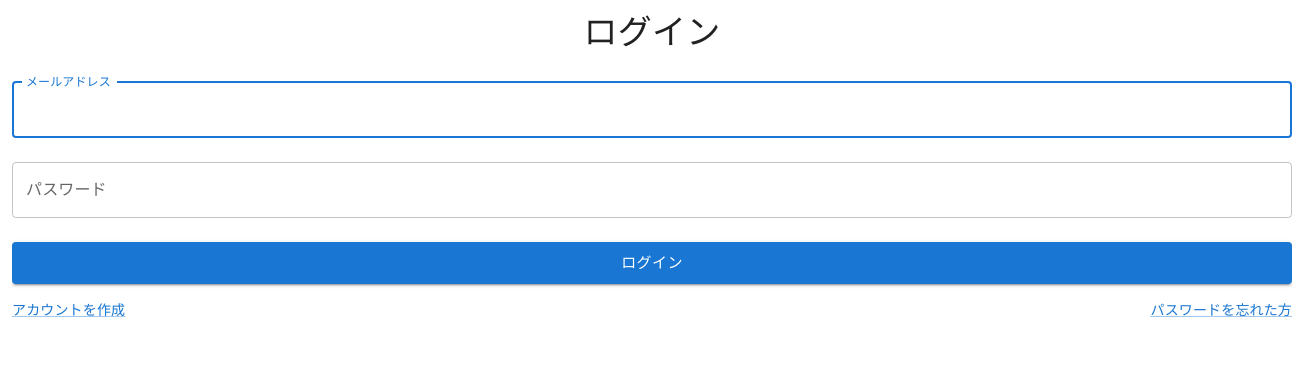
Test: LoginForm › メールアドレス未入力でバリデーションエラーを表示する
Step 1. Click the button "ログイン" → click(652, 263), box [12, 242, 1292, 284]
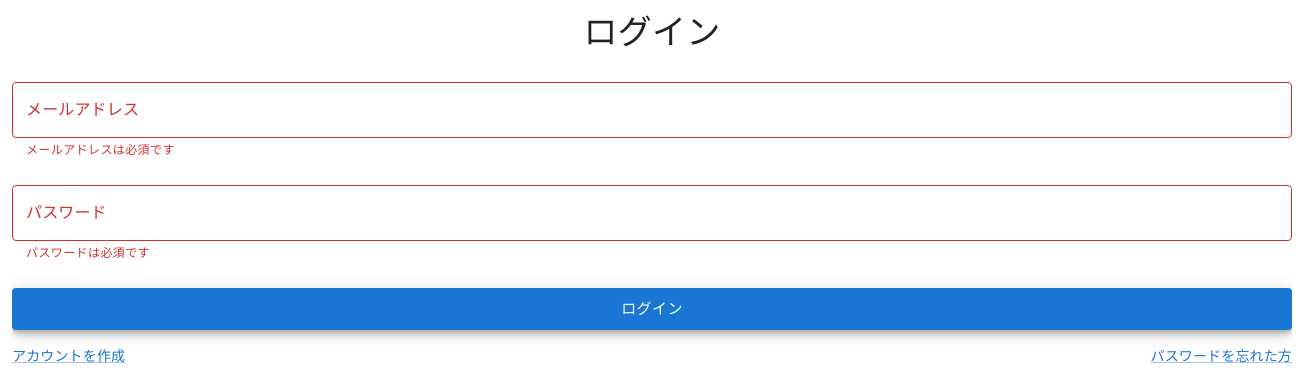
Check: the text "メールアドレスは必須です" is shown, box [26, 143, 175, 157]
